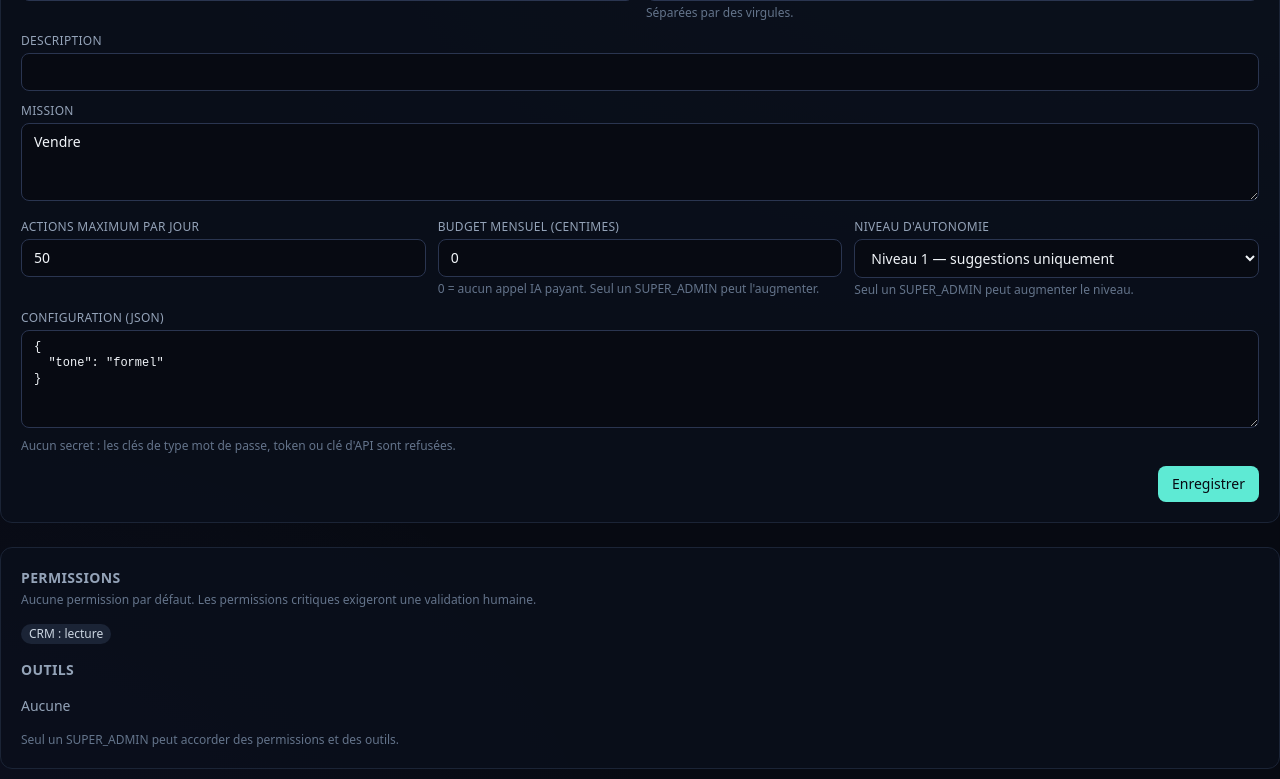
Scenario: AgentDetailView › ADMIN : autonomie supérieure et budget non attribuables, config invalide refusée côté client
The width and height of the screenshot is (1280, 779).
(page scrolled)
Replace the text in the text box labelled "Configuration (JSON)" with "[1,2]" at [640, 379], box [21, 330, 1259, 428]
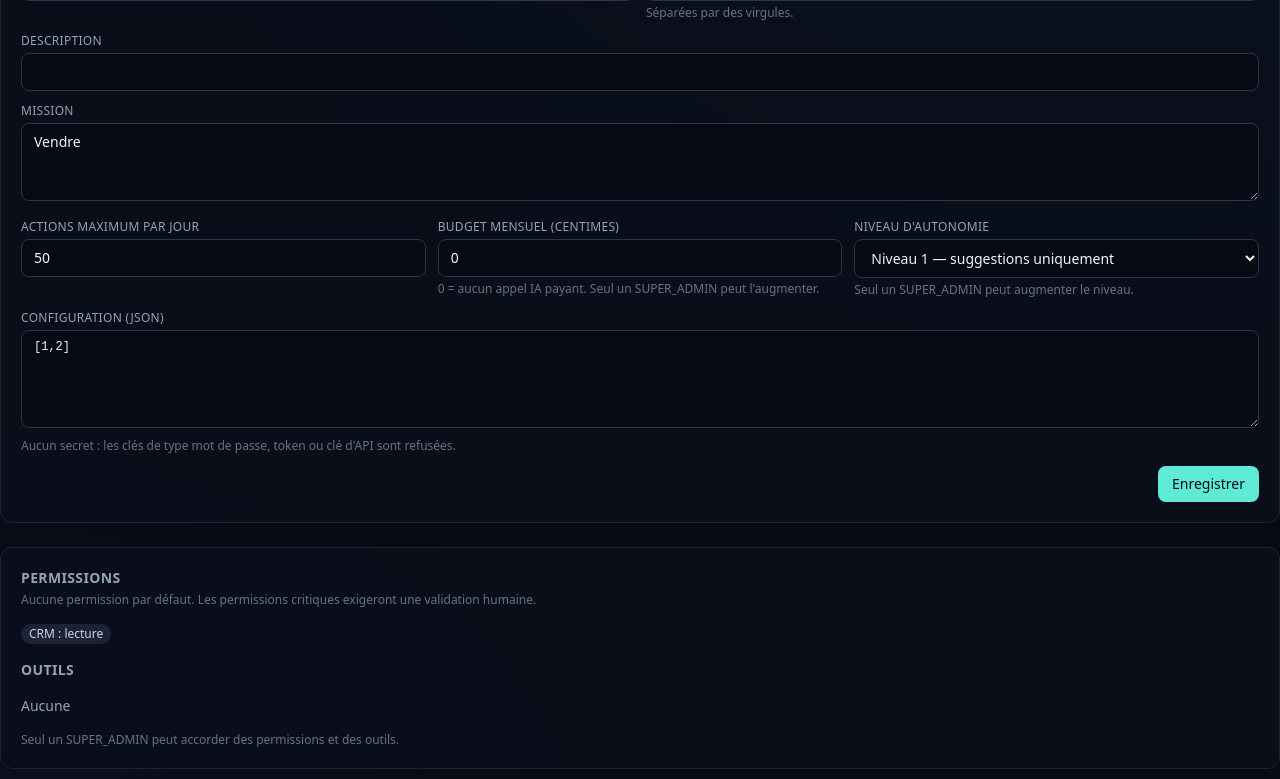
Click the button "Enregistrer".
click(1208, 484)  # box [1158, 466, 1259, 502]
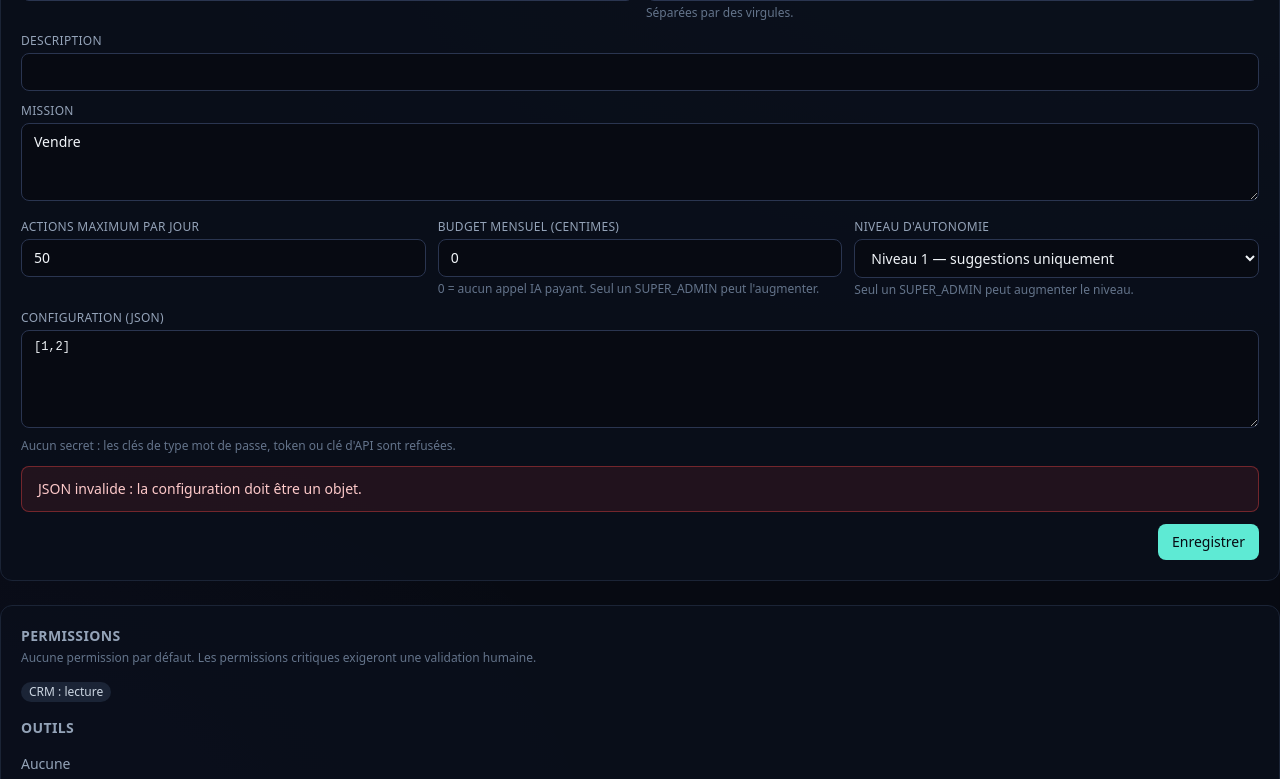
Result: the text "JSON invalide : la configuration doit être un objet." is shown at [38, 479, 362, 499]
